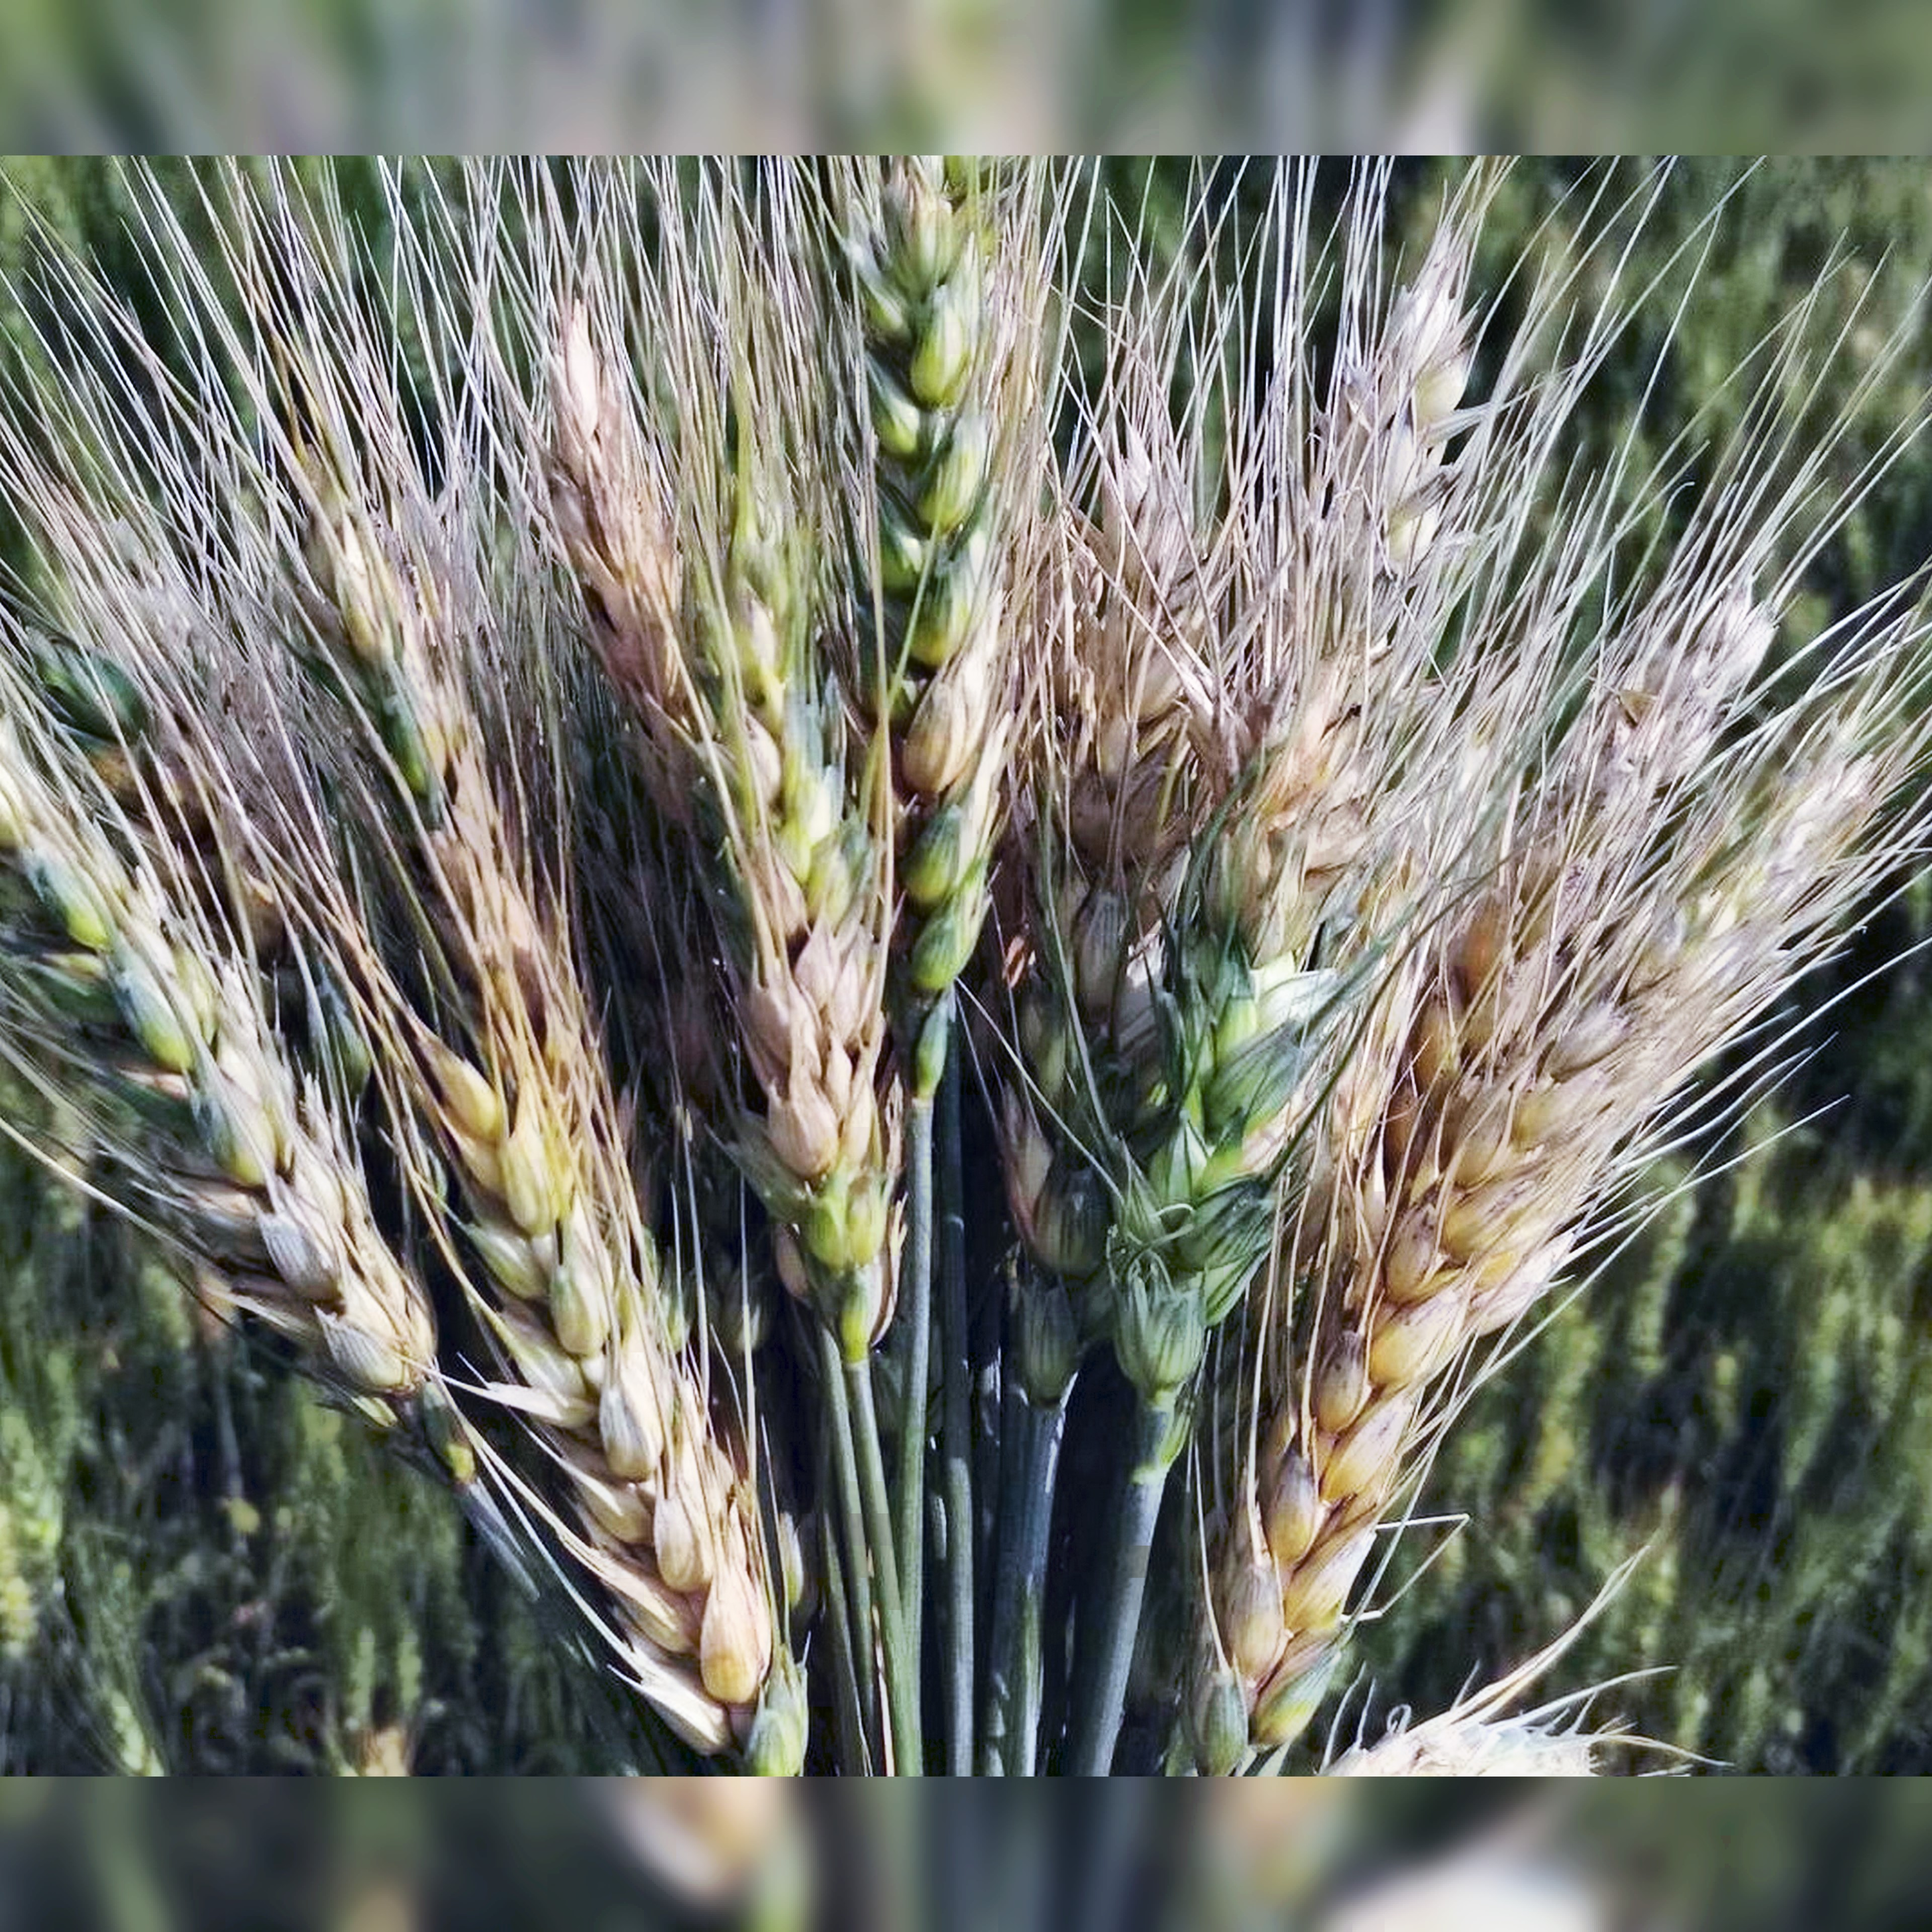Wheat scab: (888, 216, 1767, 1750), (39, 303, 890, 1690)
